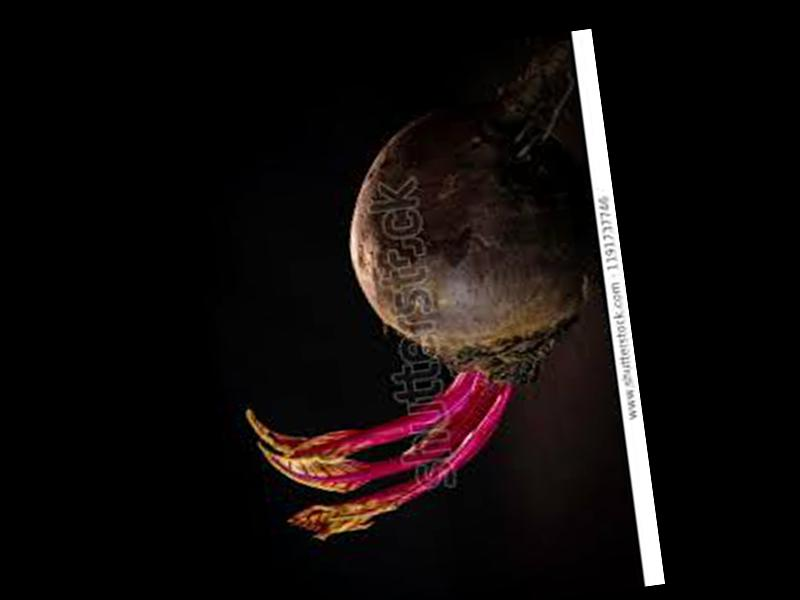Beet: (201, 31, 631, 546)
